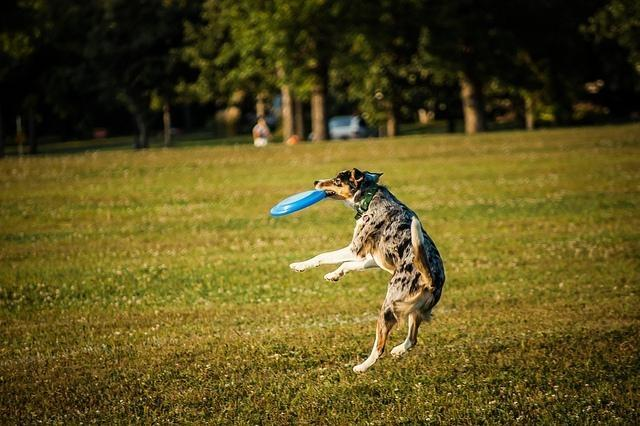car: (328, 116, 378, 142)
